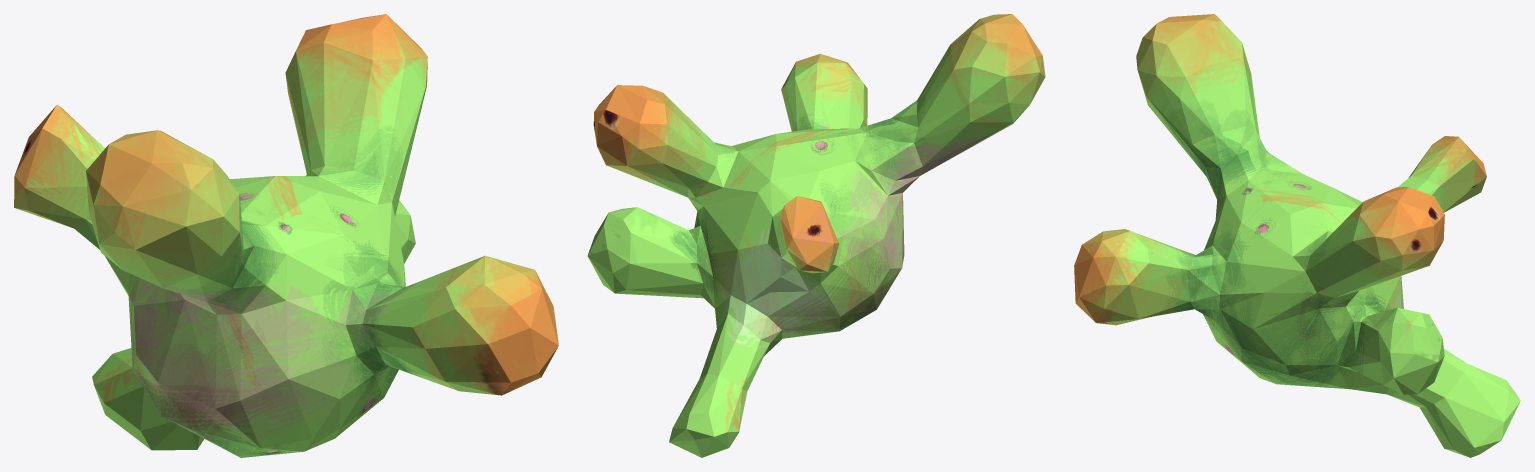
File: Bacteria.glb
The picture shows the model from 3 angles, left to right: view 1: azimuth 30°, elevation 25°; view 2: azimuth 150°, elevation 25°; view 3: azimuth 270°, elevation 25°; orthographic projection. The views are drawn at different scales.
Visible parts, largest first — view 1: Cube.001; view 2: Cube.001; view 3: Cube.001.
Boxes of the visible parts, box(x1,y1,x2,y2) form: Cube.001: box(14, 14, 558, 457); Cube.001: box(587, 14, 1045, 457); Cube.001: box(1074, 14, 1520, 457).
Size of the model in its own units: 4.18 by 4.3 by 4.82.
1 material, 1 textured.
